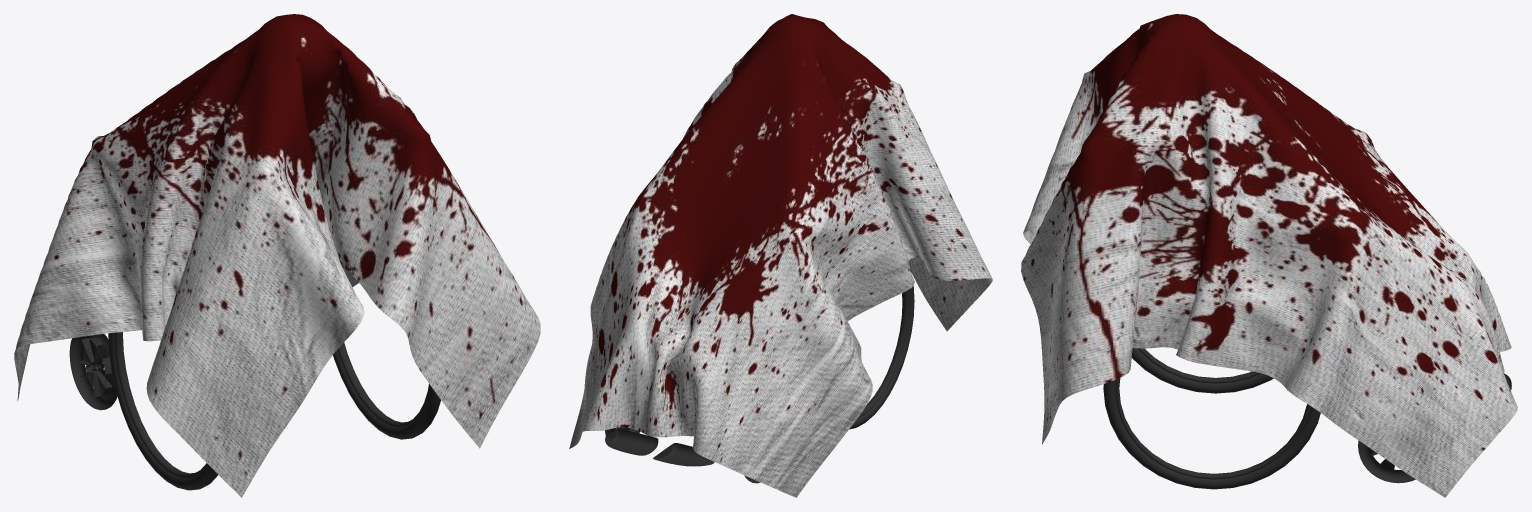
The model's file is TRUPNEWINVALID1.fbx.
3 renders of one model, left to right at view 1: azimuth 30°, elevation 25°; view 2: azimuth 150°, elevation 25°; view 3: azimuth 270°, elevation 25°, orthographic. The views are drawn at different scales.
Visible parts, largest first — view 1: TRUPVKATALKE; view 2: TRUPVKATALKE; view 3: TRUPVKATALKE.
Part boxes in pixels (x1,y1,x2,y2): TRUPVKATALKE: (14, 14, 540, 497); TRUPVKATALKE: (569, 14, 992, 497); TRUPVKATALKE: (1021, 14, 1517, 497).
Size of the model in its own units: 4024 by 4606 by 4882.
2 materials, 1 textured.
